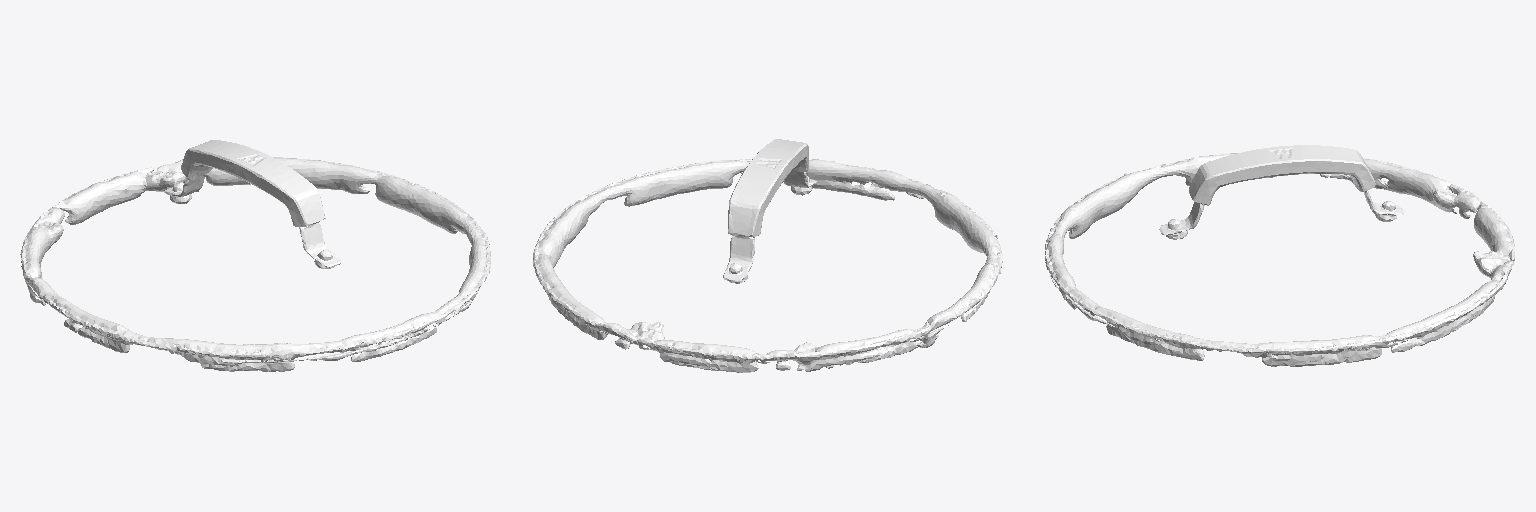
The robot description file, URDF, robot "skillet_lid":
<robot name="skillet_lid">
    <link name="base_link">
        <visual>
            <origin xyz="-0.0 0.0 -0.0" rpy="0.0 0.0 0.0" />
            <geometry>
                <mesh filename="skillet_lid/textured.obj" scale="1 1 1" />
            </geometry>
            <material name="texture">
                <color rgba="1.0 1.0 1.0 1.0" />
            </material>
        </visual>
        <collision>
            <origin xyz="-0.0 0.0 -0.0" rpy="0.0 0.0 0.0" />
            <geometry>
                <mesh filename="skillet_lid/textured_coacd_0.stl" scale="1 1 1" />
            </geometry>
        </collision>
        <collision>
            <origin xyz="-0.0 0.0 -0.0" rpy="0.0 0.0 0.0" />
            <geometry>
                <mesh filename="skillet_lid/textured_coacd_1.stl" scale="1 1 1" />
            </geometry>
        </collision>
        <collision>
            <origin xyz="-0.0 0.0 -0.0" rpy="0.0 0.0 0.0" />
            <geometry>
                <mesh filename="skillet_lid/textured_coacd_2.stl" scale="1 1 1" />
            </geometry>
        </collision>
        <collision>
            <origin xyz="-0.0 0.0 -0.0" rpy="0.0 0.0 0.0" />
            <geometry>
                <mesh filename="skillet_lid/textured_coacd_3.stl" scale="1 1 1" />
            </geometry>
        </collision>
        <collision>
            <origin xyz="-0.0 0.0 -0.0" rpy="0.0 0.0 0.0" />
            <geometry>
                <mesh filename="skillet_lid/textured_coacd_4.stl" scale="1 1 1" />
            </geometry>
        </collision>
        <inertial>
            <mass value="0.652" />
            <inertia ixx="1e-3" ixy="0.0" ixz="0.0" iyy="1e-3" iyz="0.0" izz="1e-3" />
        </inertial>
    </link>
</robot>

--- What the picture shows (computed from the rendered views, not written in the file) ---
Views: 3 orthographic renders of the robot side by side, from view 1: azimuth 30°, elevation 25°; view 2: azimuth 150°, elevation 25°; view 3: azimuth 270°, elevation 25°.
Model skillet_lid with 1 links and 0 joints (none), rooted at base_link, posed all joints at 0.
Links seen in each view (by area): view 1: base_link; view 2: base_link; view 3: base_link.
Boxes of the visible links, box(x1,y1,x2,y2) form: base_link: box(20, 140, 490, 371); base_link: box(533, 139, 1002, 372); base_link: box(1045, 145, 1514, 366).
Bounding box of the posed robot: 0.2676 × 0.2679 × 0.0749 m (x, y, z).
Meshes: 1 distinct files referenced, 1 mesh visuals loaded (1 OBJ).